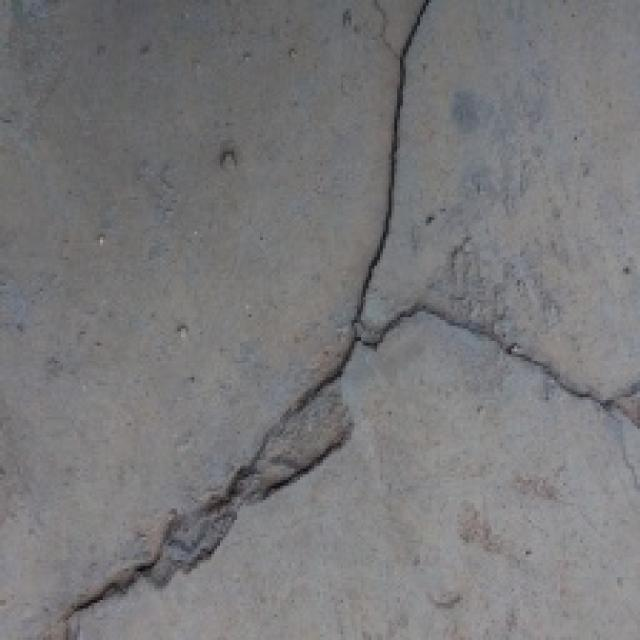crack: (48, 0, 450, 640), (342, 250, 640, 462)
